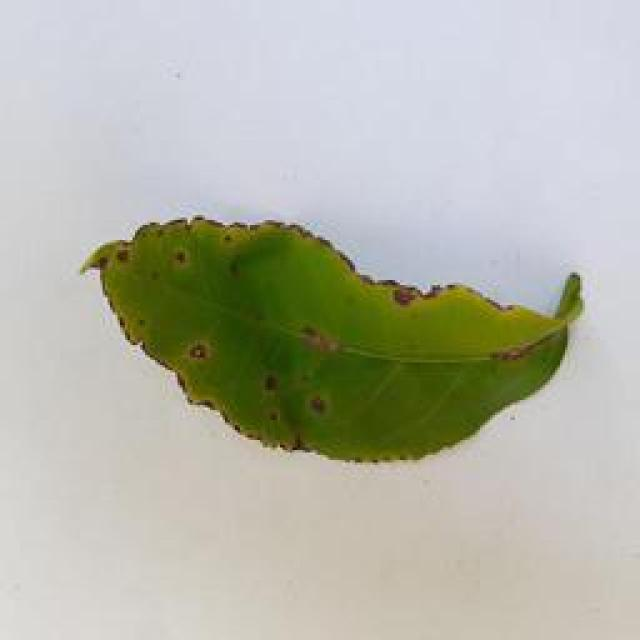Helopeltis: (68, 200, 598, 476)
